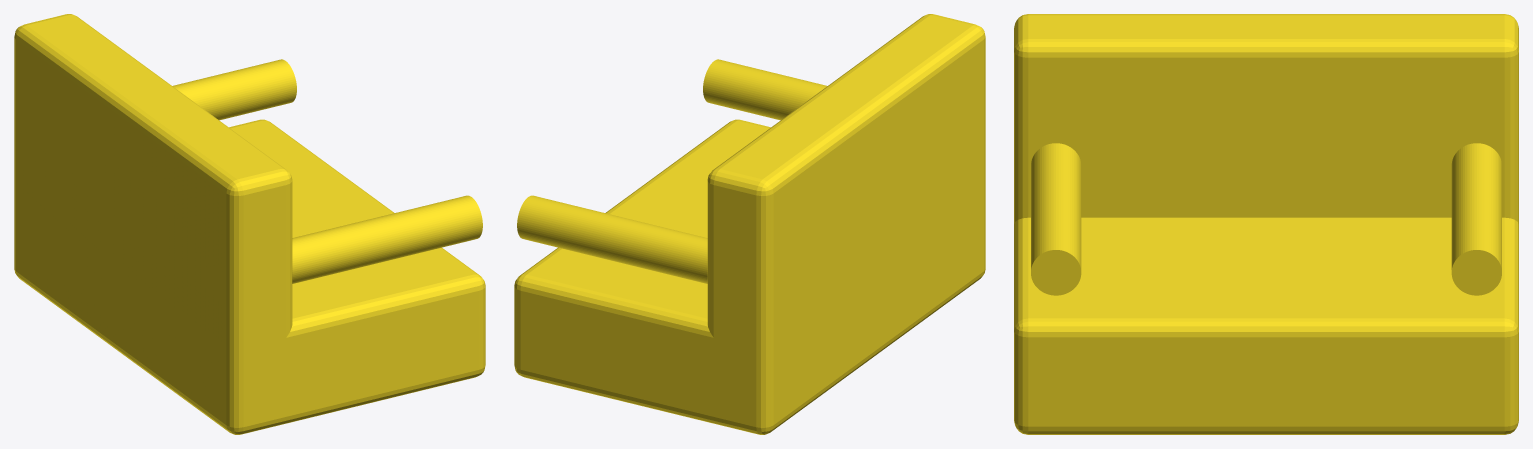
File: openscad_customizable-furniture-minis_L2_Q2__gpt61_sol.glb
The picture shows the model from 3 angles, left to right: view 1: azimuth 30°, elevation 25°; view 2: azimuth 150°, elevation 25°; view 3: azimuth 270°, elevation 25°; orthographic projection. The views are drawn at different scales.
Parts seen in each view (by area): view 1: object; view 2: object; view 3: object.
Boxes of the visible parts, x1,y1,x2,y2 form: object: [14, 14, 485, 434]; object: [514, 14, 985, 434]; object: [1014, 14, 1518, 434].
Size of the model in its own units: 18.29 by 17.27 by 27.43.
